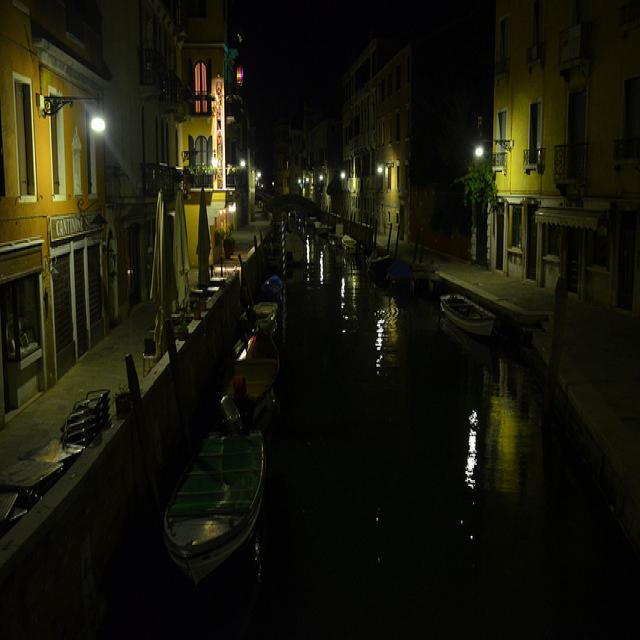Boat: (128, 427, 280, 593), (219, 320, 297, 432), (241, 246, 300, 339), (369, 238, 444, 306), (440, 274, 512, 344), (330, 210, 393, 262), (296, 190, 341, 231)
